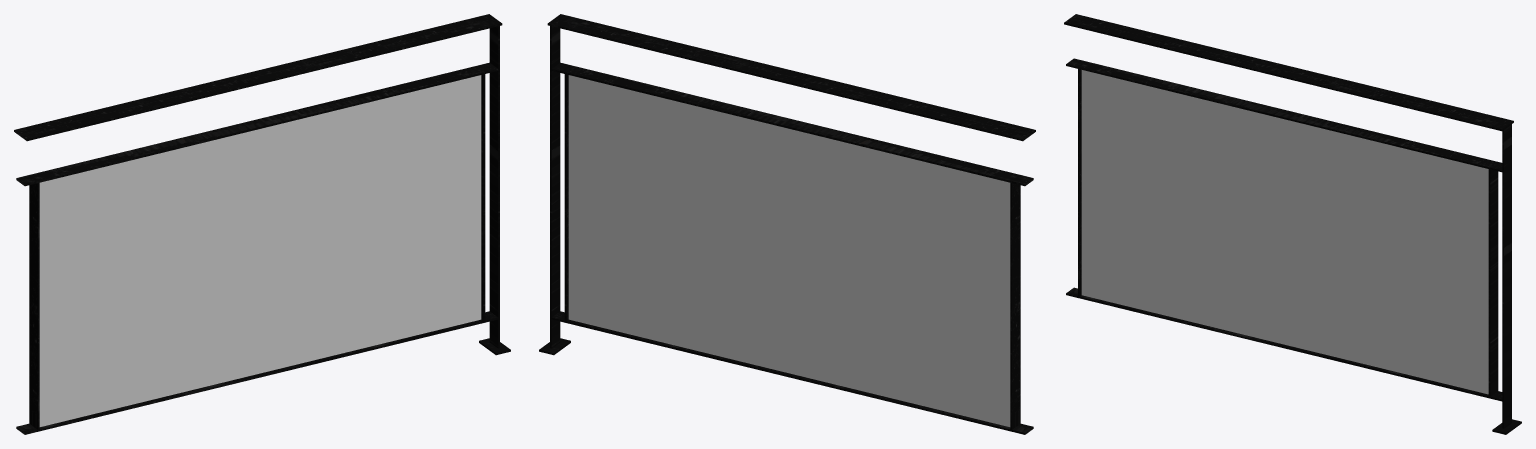
Rendered from railing_42x64.fbx.
The picture shows the model from 3 angles, left to right: view 1: azimuth 30°, elevation 25°; view 2: azimuth 150°, elevation 25°; view 3: azimuth 330°, elevation 25°; orthographic projection. The views are drawn at different scales.
Parts seen in each view (by area): view 1: railing_42x64_insert, railing_42x64; view 2: railing_42x64_insert, railing_42x64; view 3: railing_42x64_insert, railing_42x64.
Boxes of the visible parts, box(x1,y1,x2,y2) form: railing_42x64_insert: box(39, 75, 481, 426); railing_42x64: box(14, 14, 510, 434); railing_42x64_insert: box(568, 75, 1010, 426); railing_42x64: box(539, 14, 1035, 434); railing_42x64_insert: box(1081, 70, 1488, 394); railing_42x64: box(1064, 14, 1521, 434).
Bounding box in the file's own units: 64.88 × 42.25 × 4.
1 material, 1 textured.
